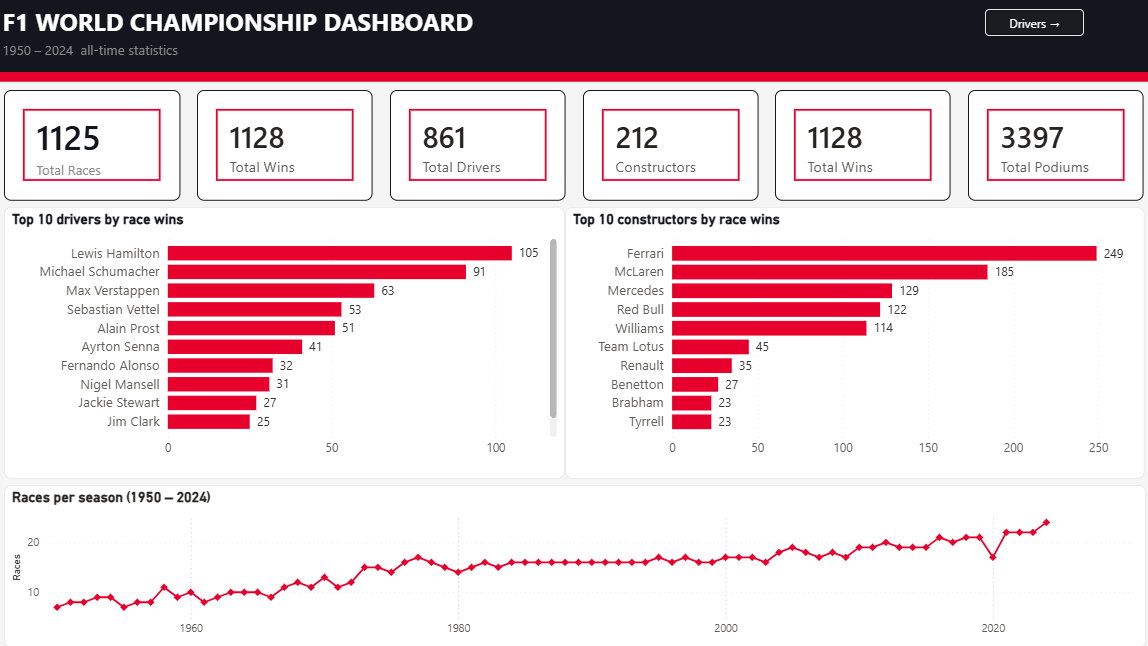

Layout of this report page (visuals, bound fields, positions):
{"tool":"powerbi","page":{"name":"Home","canvas":[1280,720],"ordinal":0},"visuals":[{"type":"shape","box":[0,0,1280,80],"z":0},{"type":"shape","box":[0,79.5,1280,10.8],"z":1000},{"type":"textbox","box":[0,0,1280,46.7],"z":2000},{"type":"textbox","box":[0,39.9,1280,34],"z":3000},{"type":"cardVisual","fields":{"Data":["_Measures.Total Races"]},"box":[6.8,100.2,195.5,122.6],"z":4000},{"type":"cardVisual","fields":{"Data":["_Measures.Total Wins"]},"box":[221.4,100.2,195,122.6],"z":5000},{"type":"cardVisual","fields":{"Data":["_Measures.Total Drivers"]},"box":[435.5,100.2,195,122.6],"z":6000},{"type":"cardVisual","fields":{"Data":["_Measures.Total Constructors"]},"box":[649.7,100.2,195,122.6],"z":7000},{"type":"cardVisual","fields":{"Data":["_Measures.Total Wins"]},"box":[863.8,100.2,195,122.6],"z":8000},{"type":"cardVisual","fields":{"Data":["_Measures.Total Podiums"]},"box":[1077.9,100.2,195,122.6],"z":9000},{"type":"clusteredBarChart","title":"Top 10 drivers by race wins","fields":{"Category":["drivers.DriverName"],"Y":["_Measures.Total Wins"]},"box":[6.8,230.5,623.5,302.5],"z":10000},{"type":"clusteredBarChart","title":"Top 10 constructors by race wins","fields":{"Y":["_Measures.Total Wins"],"Category":["constructors.name"]},"box":[630.3,230.5,643.9,302.5],"z":11000},{"type":"lineChart","title":"Races per season (1950 – 2024)","fields":{"Category":["races.year"],"Y":["_Measures.Total Races"]},"box":[6.8,539.1,1269.3,180.9],"z":12000},{"type":"actionButton","box":[1096.8,9.8,110,30.1],"z":13000}]}

Visuals, with their boxes in screenshot pixels (x1, y1, x2, y2), scaled from the page's 1280x720 canvas onto the 1148x646 screenshot:
shape: l=0, t=0, r=1147, b=72
shape: l=0, t=71, r=1147, b=81
textbox: l=0, t=0, r=1147, b=42
textbox: l=0, t=36, r=1147, b=66
cardVisual - _Measures.Total Races: l=6, t=90, r=181, b=200
cardVisual - _Measures.Total Wins: l=199, t=90, r=373, b=200
cardVisual - _Measures.Total Drivers: l=391, t=90, r=565, b=200
cardVisual - _Measures.Total Constructors: l=583, t=90, r=758, b=200
cardVisual - _Measures.Total Wins: l=775, t=90, r=950, b=200
cardVisual - _Measures.Total Podiums: l=967, t=90, r=1142, b=200
"Top 10 drivers by race wins" clusteredBarChart: l=6, t=207, r=565, b=478
"Top 10 constructors by race wins" clusteredBarChart: l=565, t=207, r=1143, b=478
"Races per season (1950 – 2024)" lineChart: l=6, t=484, r=1145, b=645
actionButton: l=984, t=9, r=1082, b=36
